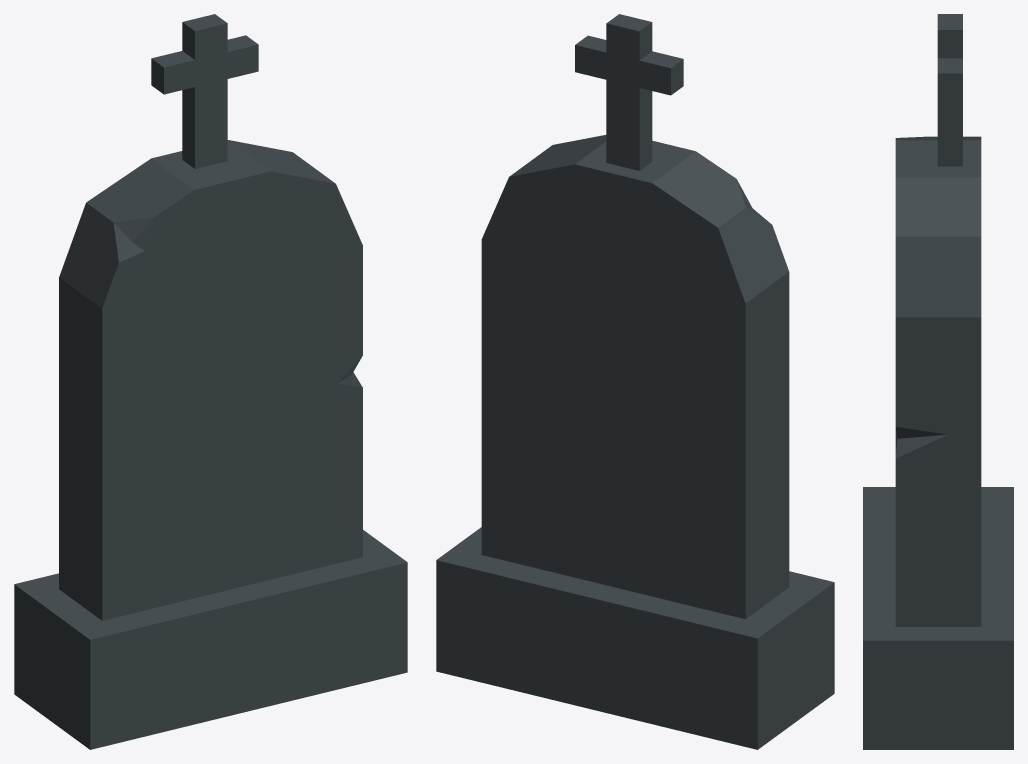
The model's file is tombstone_11.fbx.
The picture shows the model from 3 angles, left to right: view 1: azimuth 30°, elevation 25°; view 2: azimuth 150°, elevation 25°; view 3: azimuth 270°, elevation 25°; orthographic projection. The views are drawn at different scales.
Visible parts, largest first — view 1: tombstone10; view 2: tombstone10; view 3: tombstone10.
Part boxes in pixels (bbox=[...]): tombstone10: bbox=[14, 14, 407, 749]; tombstone10: bbox=[436, 14, 834, 749]; tombstone10: bbox=[863, 14, 1013, 749].
Bounding box in the file's own units: 0.6784 × 1.34 × 0.2812.
